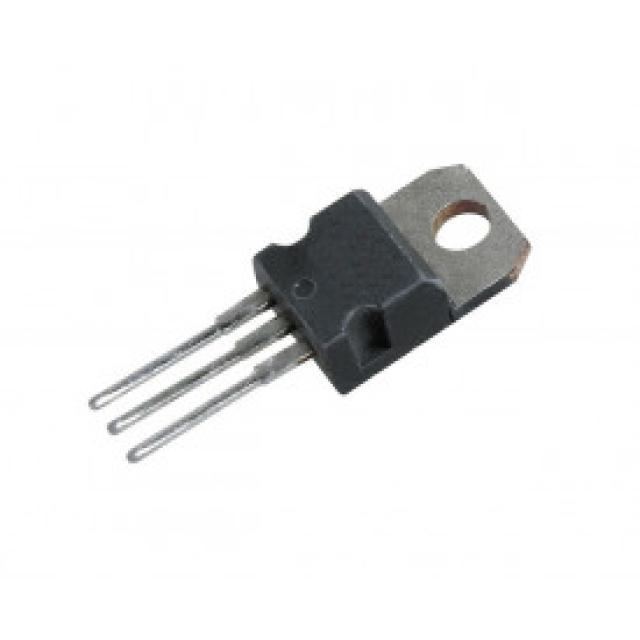Transistor: (86, 159, 526, 466)
